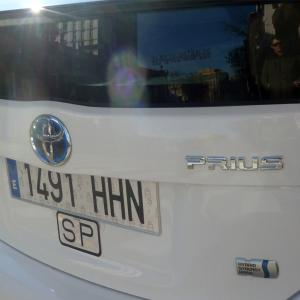Vehicle-registration-plate: (9, 157, 158, 234)
